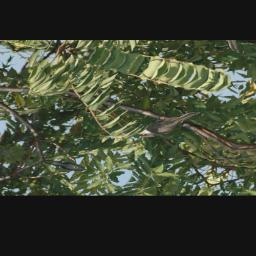Cuckoo: (133, 102, 205, 146)
